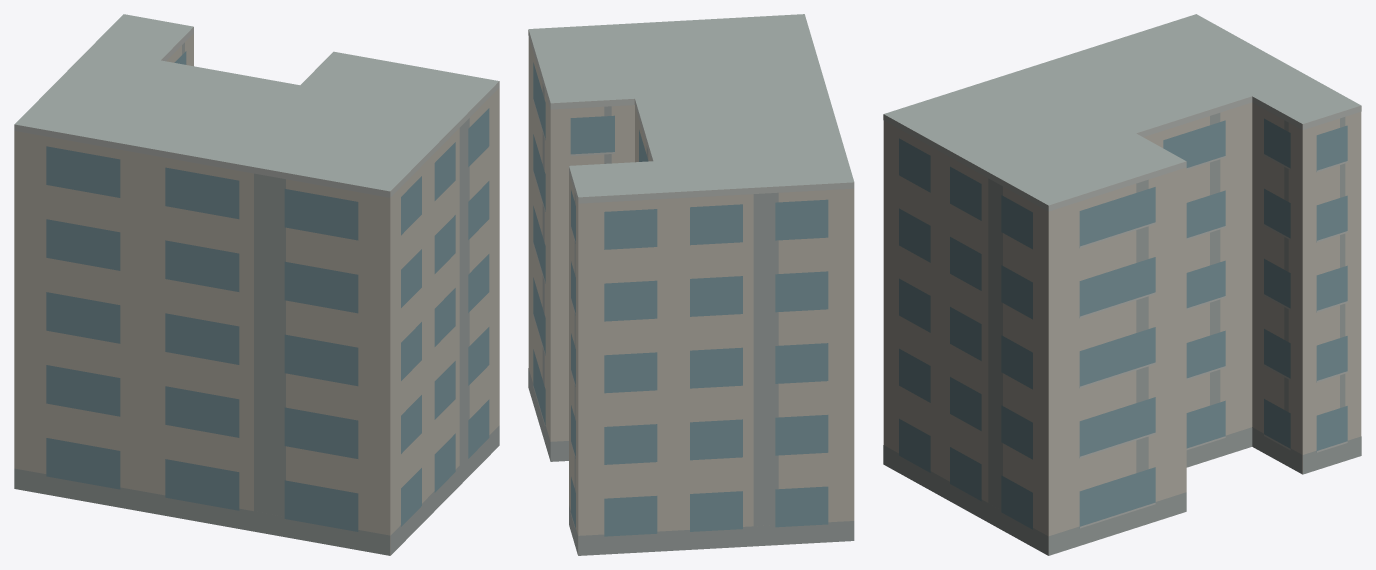
File: residential-5cc10ff1-0d02-4916-bb7d-c5915b8f7c0f.glb
The picture shows the model from 3 angles, left to right: view 1: azimuth 30°, elevation 25°; view 2: azimuth 150°, elevation 25°; view 3: azimuth 270°, elevation 25°; orthographic projection. The views are drawn at different scales.
Visible parts, largest first — view 1: residential-5cc10ff1-0d02-4916-bb7d-c5915b8f7c0f.tmp; view 2: residential-5cc10ff1-0d02-4916-bb7d-c5915b8f7c0f.tmp; view 3: residential-5cc10ff1-0d02-4916-bb7d-c5915b8f7c0f.tmp.
Boxes of the visible parts, x1,y1,x2,y2 form: residential-5cc10ff1-0d02-4916-bb7d-c5915b8f7c0f.tmp: (14, 14, 499, 555); residential-5cc10ff1-0d02-4916-bb7d-c5915b8f7c0f.tmp: (528, 14, 854, 555); residential-5cc10ff1-0d02-4916-bb7d-c5915b8f7c0f.tmp: (883, 14, 1361, 555).
Size of the model in its own units: 16.36 by 13.95 by 17.25.
